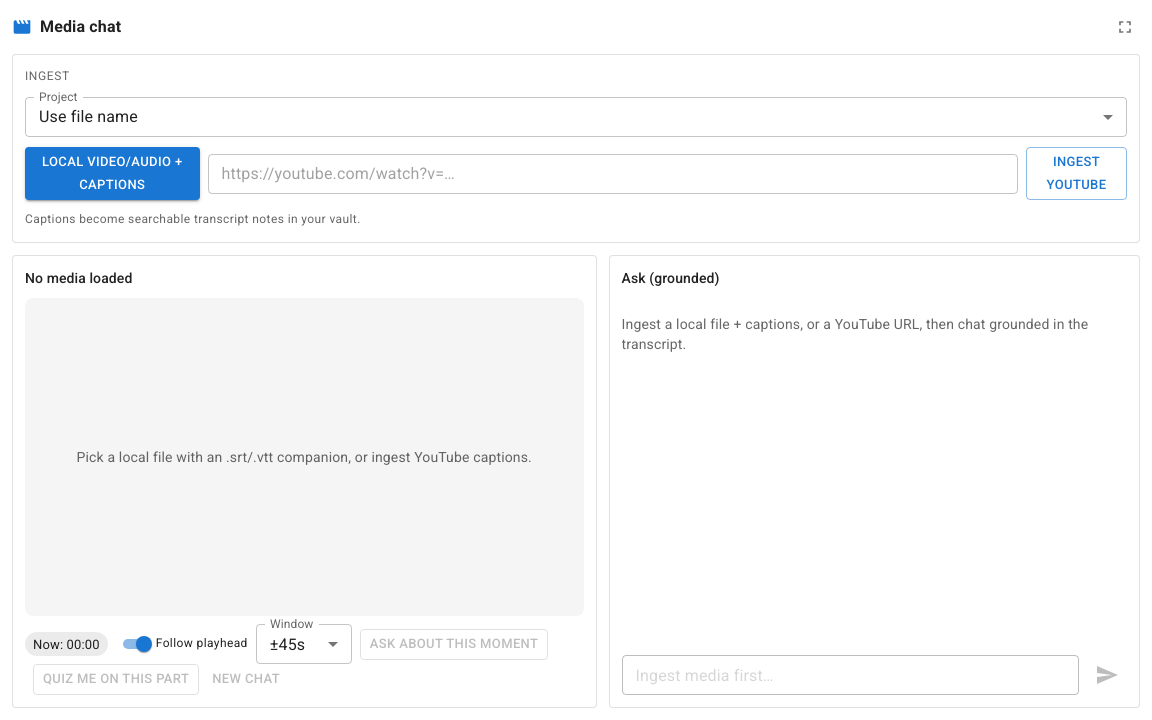
Test: MediaChatView › errors when local ingest lacks captions
Step 1. Click the button "Local video/audio + captions" → coordinates (112, 174), box [25,147,200,200]
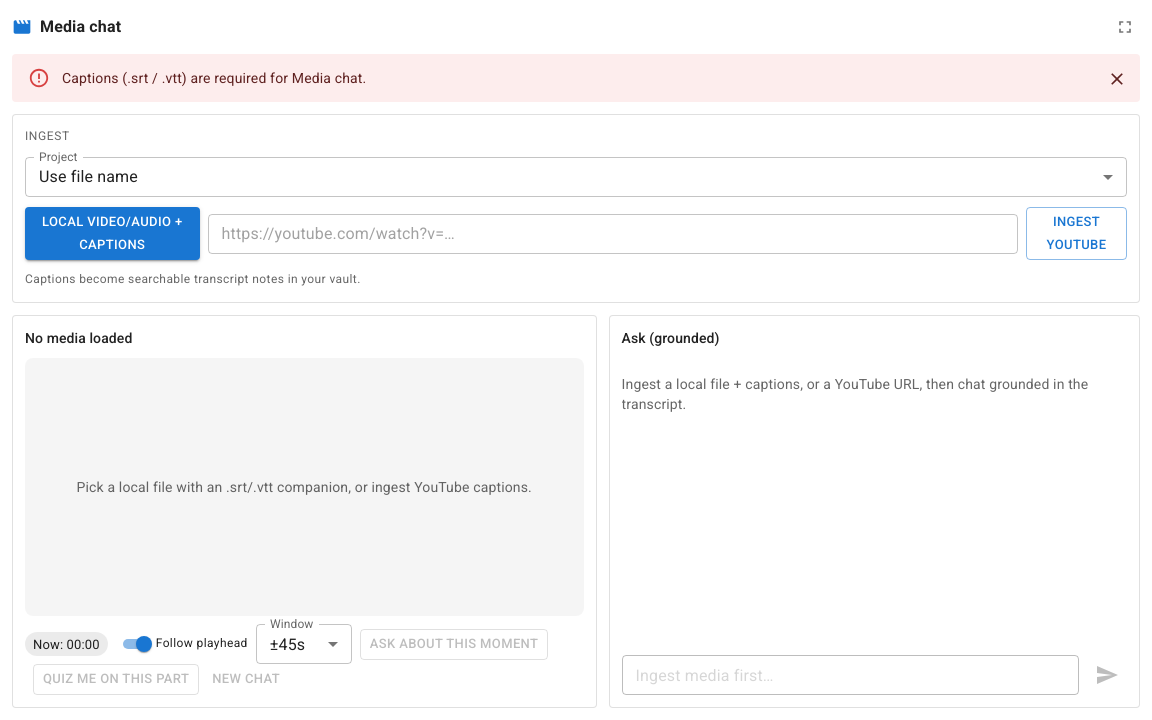
Expected: the text "Captions (.srt / .vtt) are required for Media chat." is shown, [62,70,366,86]
